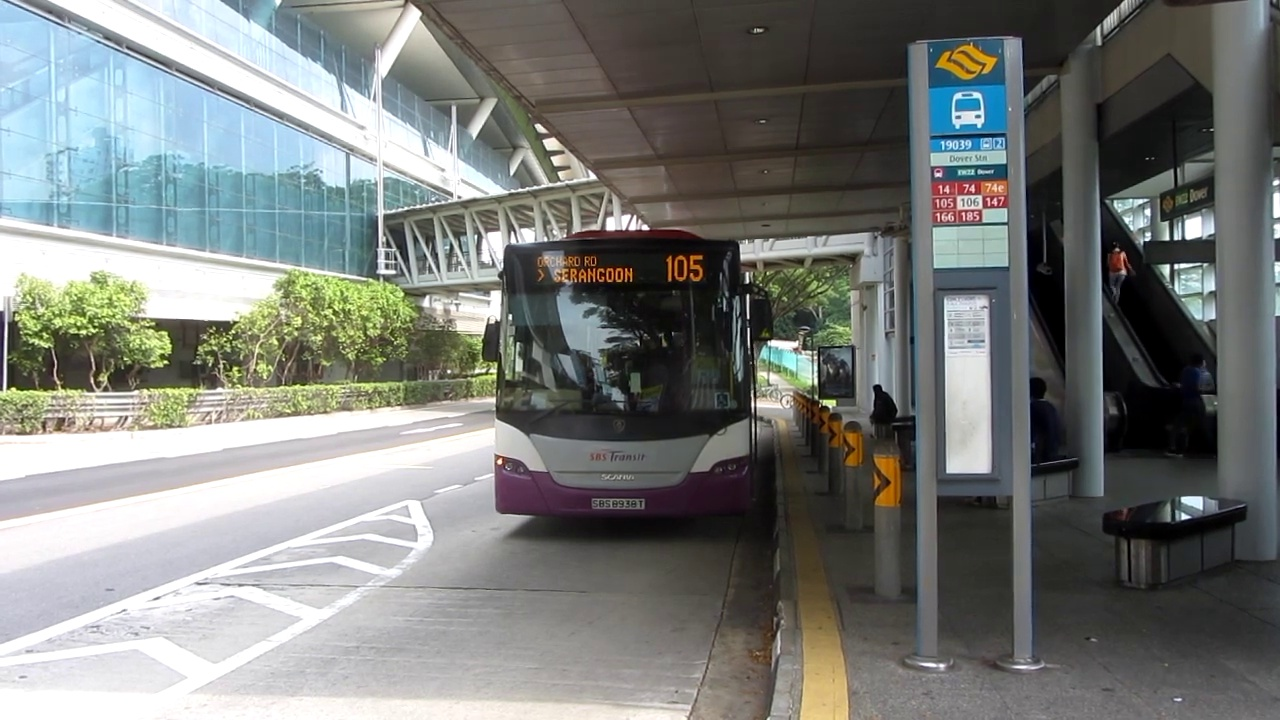bus panel: (531, 252, 708, 287)
